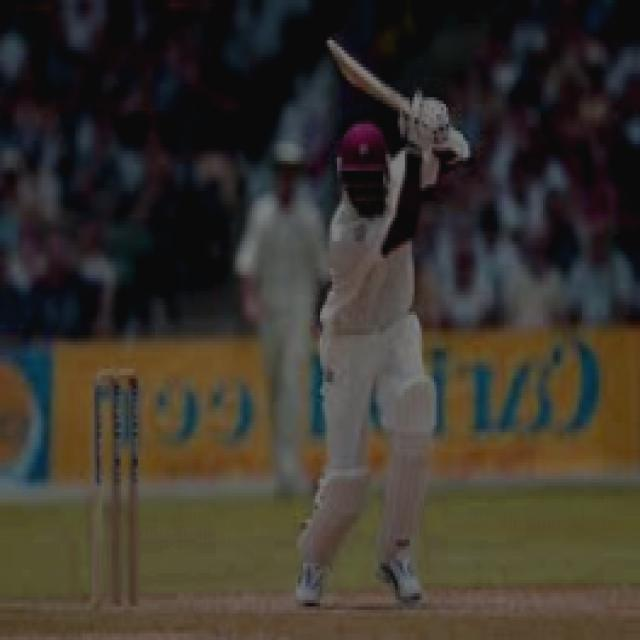toe: (328, 37, 365, 86)
